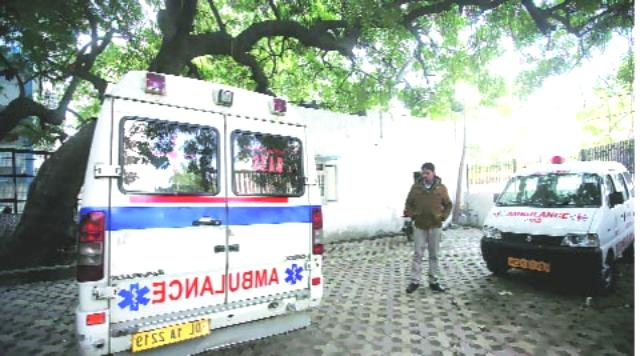ambulance: (70, 67, 330, 356), (471, 137, 633, 301)
